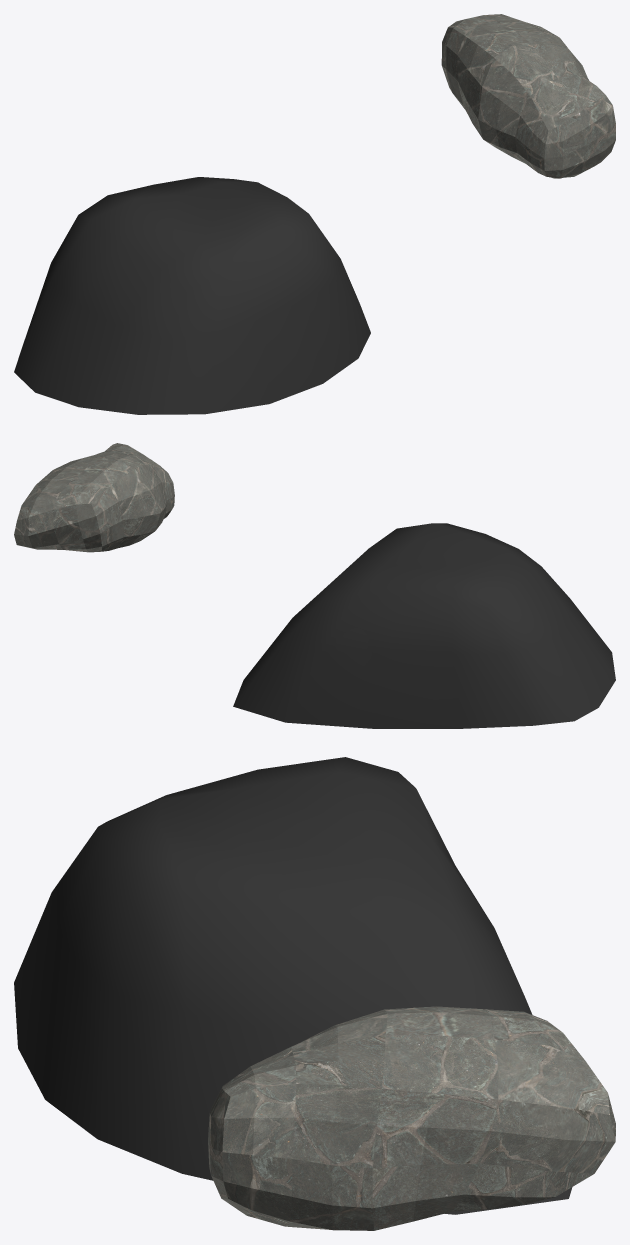
Rendered from rock.fbx.
3 renders of one model, top to bottom at view 1: azimuth 30°, elevation 25°; view 2: azimuth 150°, elevation 25°; view 3: azimuth 270°, elevation 25°, orthographic. The views are drawn at different scales.
Visible parts, largest first — view 1: stone, rock; view 2: stone, rock; view 3: stone, rock.
Part boxes in pixels (x1,y1,x2,y2): stone: (14,177,370,414); rock: (441,14,615,178); stone: (233,523,615,728); rock: (14,443,174,552); stone: (14,757,572,1214); rock: (208,1006,615,1230).
Bounding box in the file's own units: 136 × 43.77 × 70.28.
